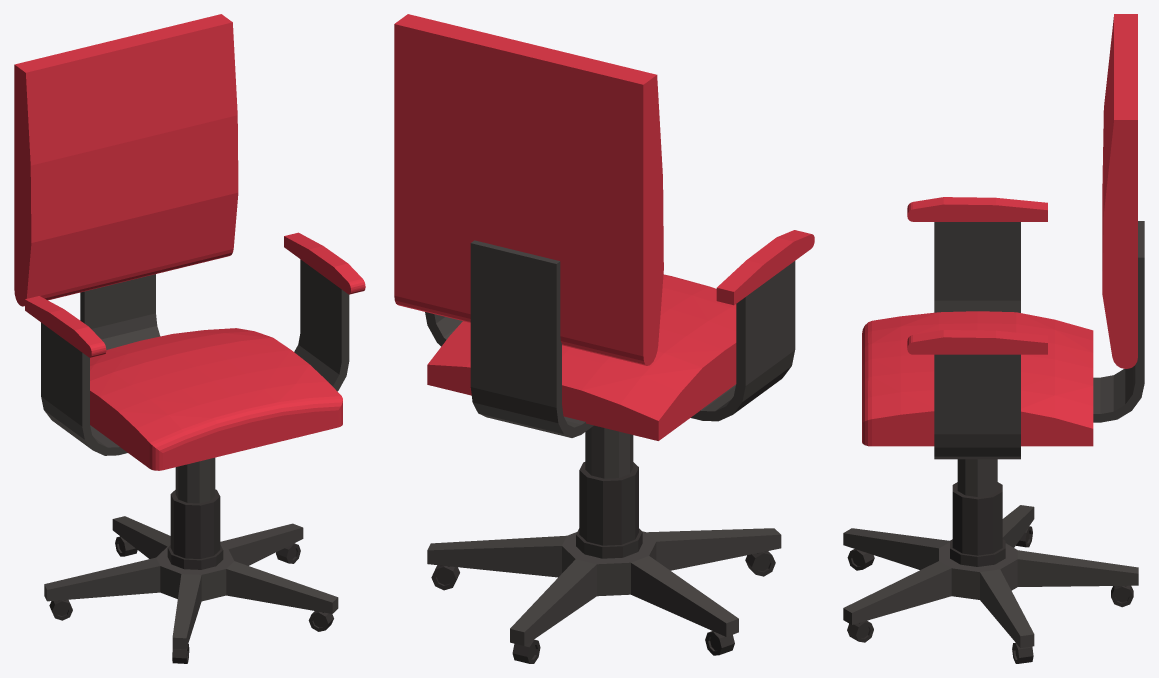
Rendered from Office Chair_03.fbx.
3 views of the same model, side by side, from view 1: azimuth 30°, elevation 25°; view 2: azimuth 150°, elevation 25°; view 3: azimuth 270°, elevation 25° (orthographic). The views are drawn at different scales.
Visible parts, largest first — view 1: Office Chair_03; view 2: Office Chair_03; view 3: Office Chair_03.
Boxes of the visible parts, x1,y1,x2,y2 form: Office Chair_03: (14, 14, 365, 663); Office Chair_03: (394, 14, 814, 663); Office Chair_03: (843, 14, 1144, 663).
Size of the model in its own units: 60.2 by 107 by 54.67.
